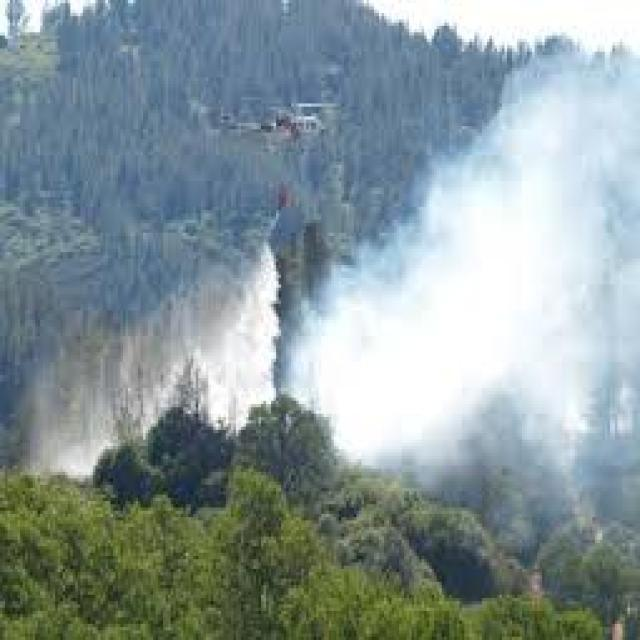Smoke: (347, 48, 640, 500), (322, 188, 625, 416)
